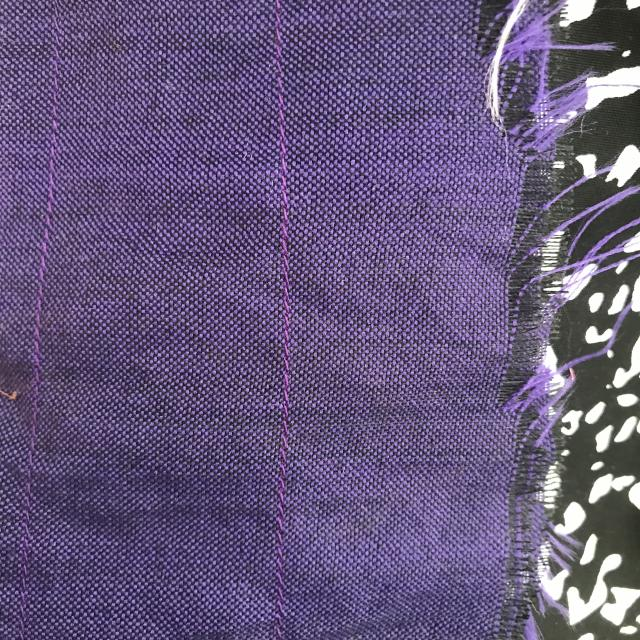good: (258, 165, 316, 436), (37, 97, 63, 272), (260, 30, 298, 133), (267, 472, 294, 612)
